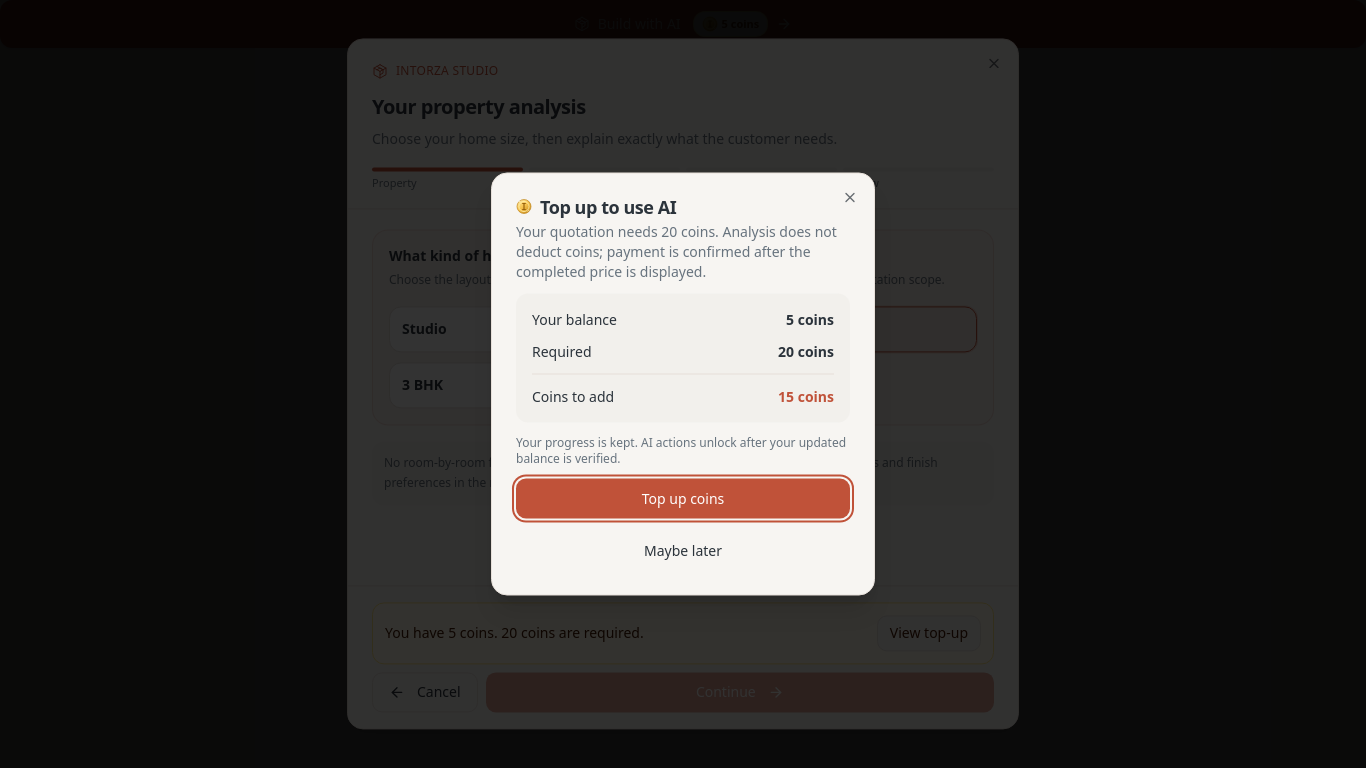
unlocks the quotation flow with exactly 20 coins after verification
Expected: the dialog "Top up to use AI" is shown, [491, 172, 875, 596]
Click the button "Maybe later" at (683, 550), box [516, 530, 850, 570]
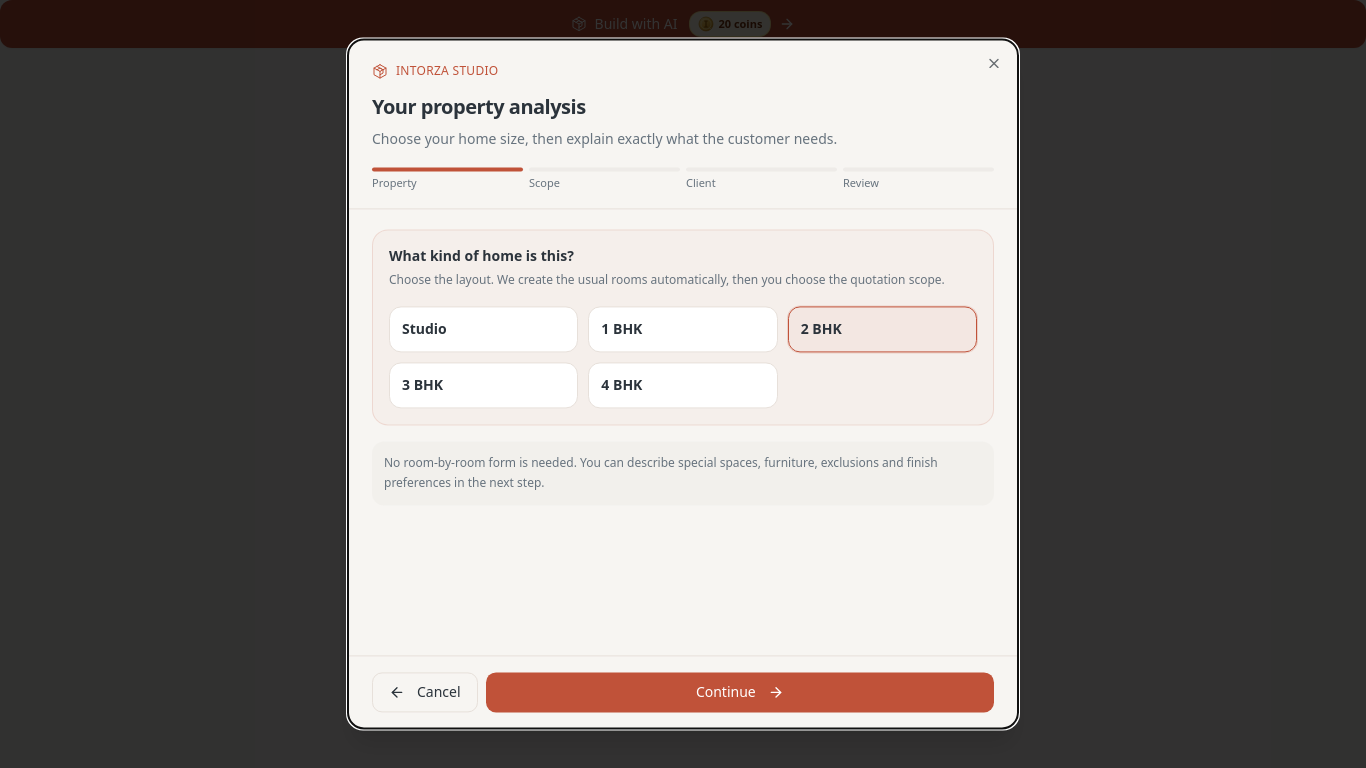
Now the button "Continue" is enabled, box [486, 673, 994, 713]
